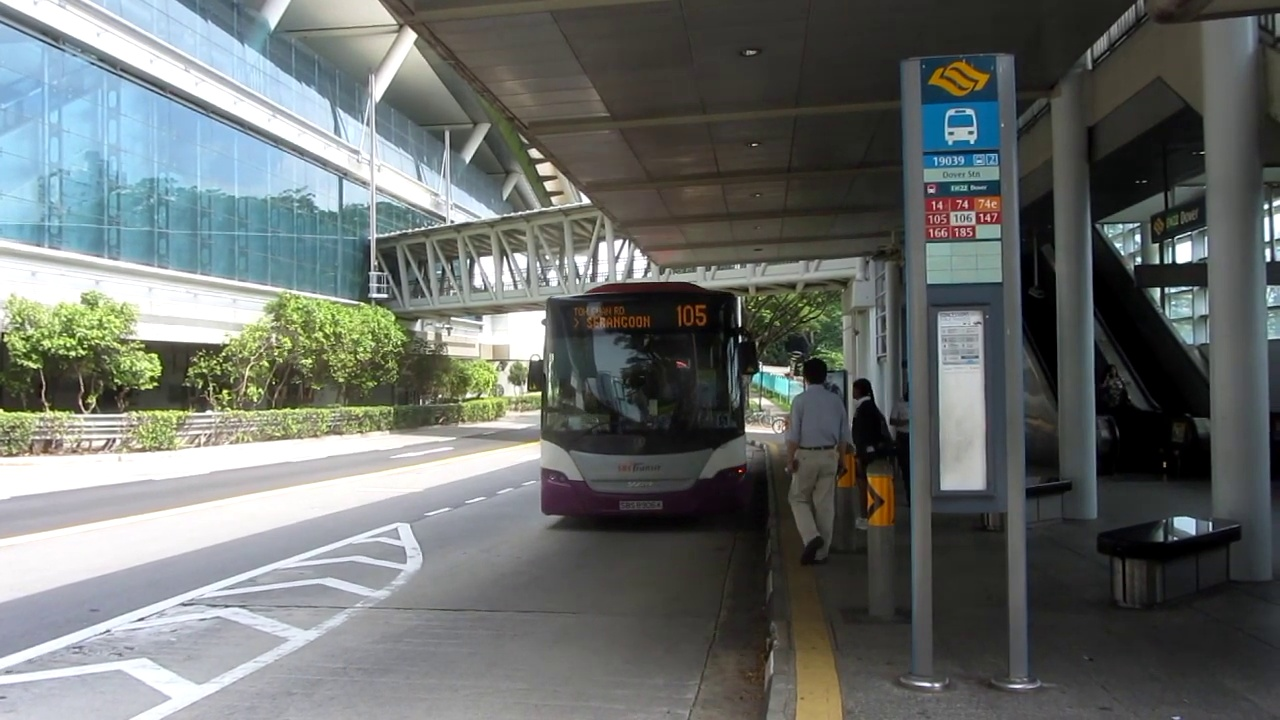bus panel: (570, 303, 710, 331)
